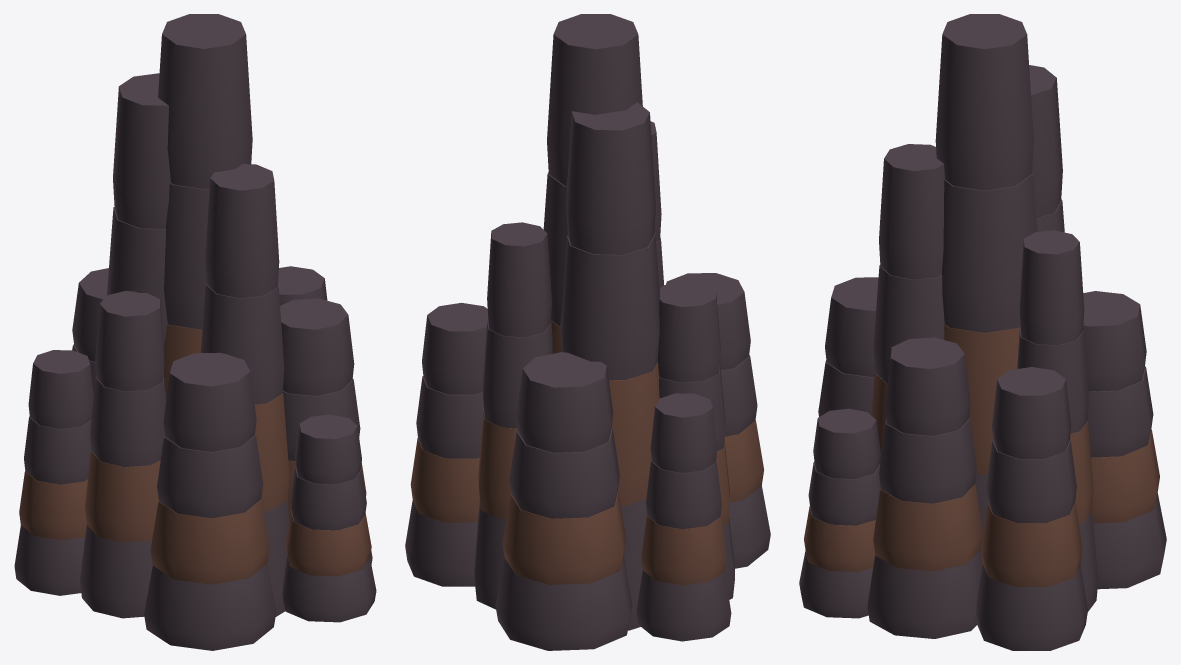
File: vista_ignis.glb
3 renders of one model, left to right at view 1: azimuth 30°, elevation 25°; view 2: azimuth 150°, elevation 25°; view 3: azimuth 270°, elevation 25°, orthographic.
Parts seen in each view (by area): view 1: vista_ignis; view 2: vista_ignis; view 3: vista_ignis.
Boxes of the visible parts, x1,y1,x2,y2 form: vista_ignis: (14,14,376,650); vista_ignis: (405,14,770,650); vista_ignis: (799,14,1166,650).
Bounding box in the file's own units: 4.35 × 7.4 × 4.42.
